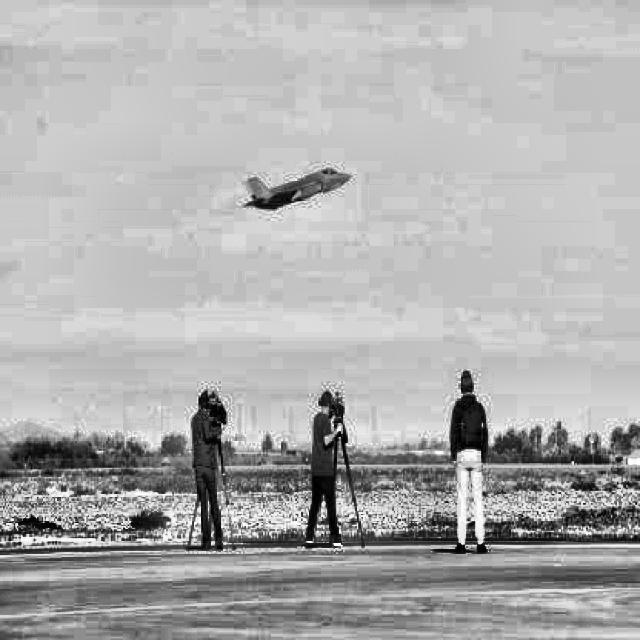F35: (242, 168, 352, 210)
